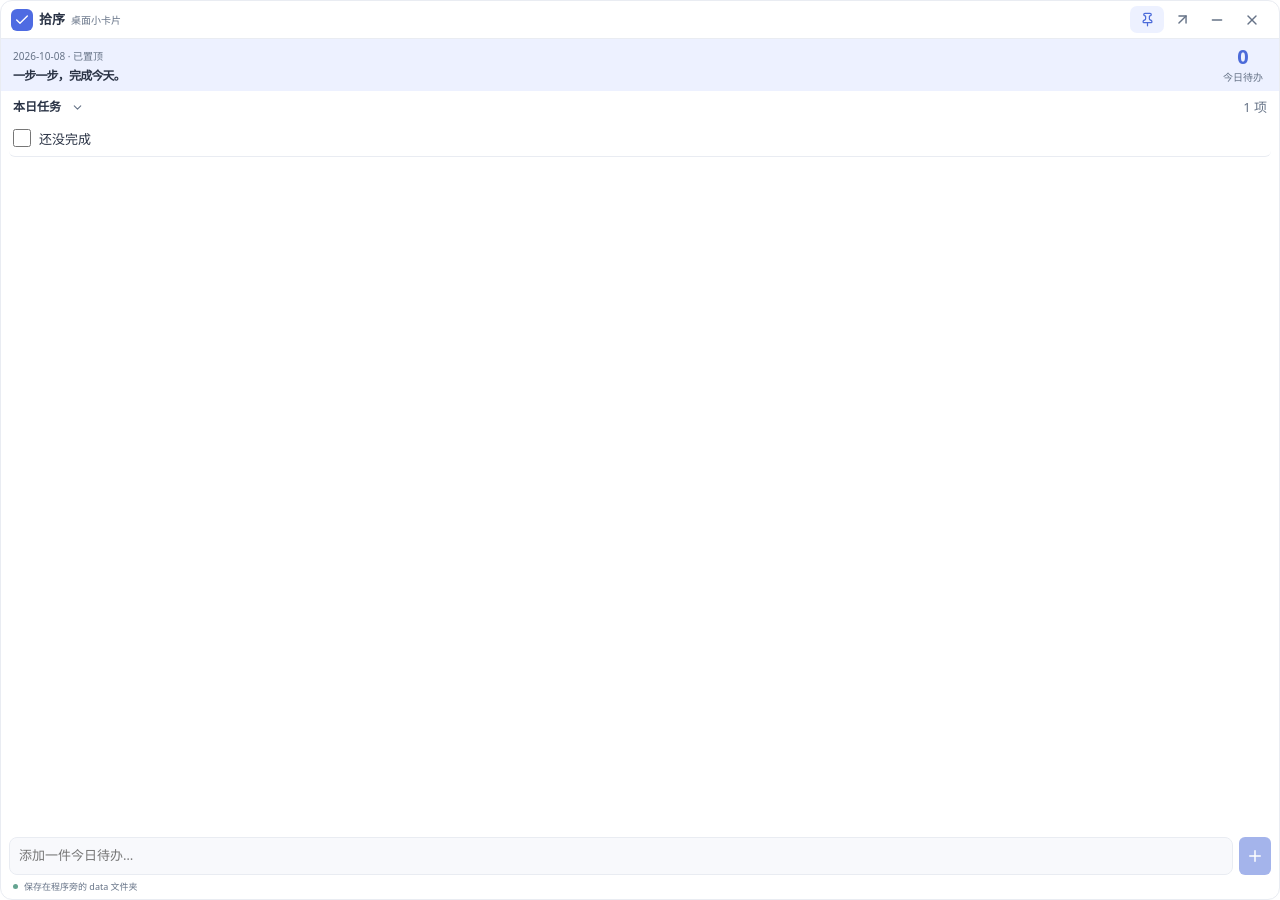
Scenario: 完成写入失败时卡片保留未完成状态
Click the checkbox named "完成 还没完成". click: (22, 138)
box: [13,129,31,147]
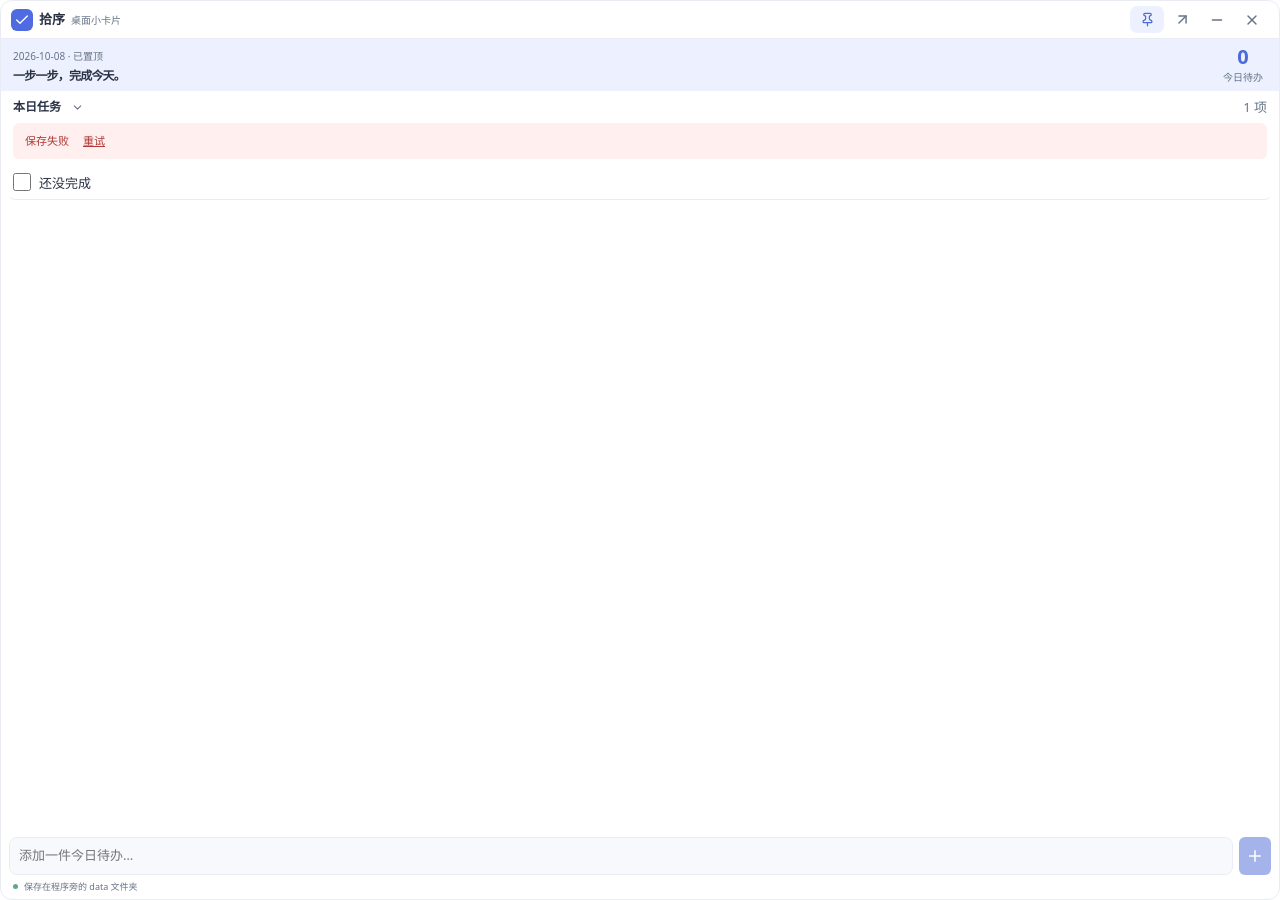
Check: the checkbox named "完成 还没完成" is not checked, box [13,173,31,191]
Check: the message shows "保存失败", box [25,133,69,148]
